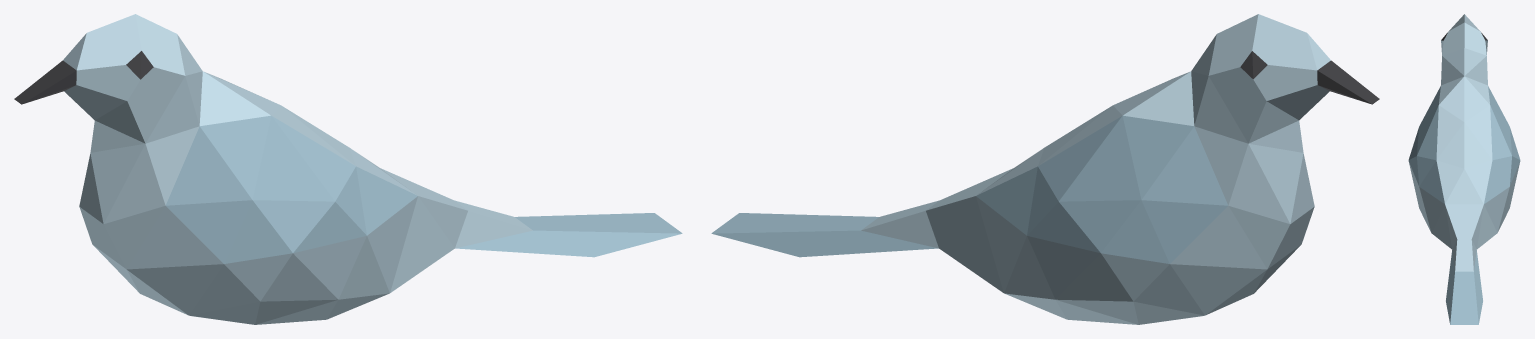
File: bird.glb
3 views of the same model, side by side, from view 1: azimuth 30°, elevation 25°; view 2: azimuth 150°, elevation 25°; view 3: azimuth 270°, elevation 25° (orthographic). The views are drawn at different scales.
Visible parts, largest first — view 1: bird; view 2: bird; view 3: bird.
Boxes of the visible parts, box(x1,y1,x2,y2) form: bird: box(14, 14, 682, 324); bird: box(711, 14, 1379, 324); bird: box(1408, 14, 1520, 324).
Size of the model in its own units: 0.8333 by 0.4151 by 0.2462.
Materials: 2 (2 with a texture image).
